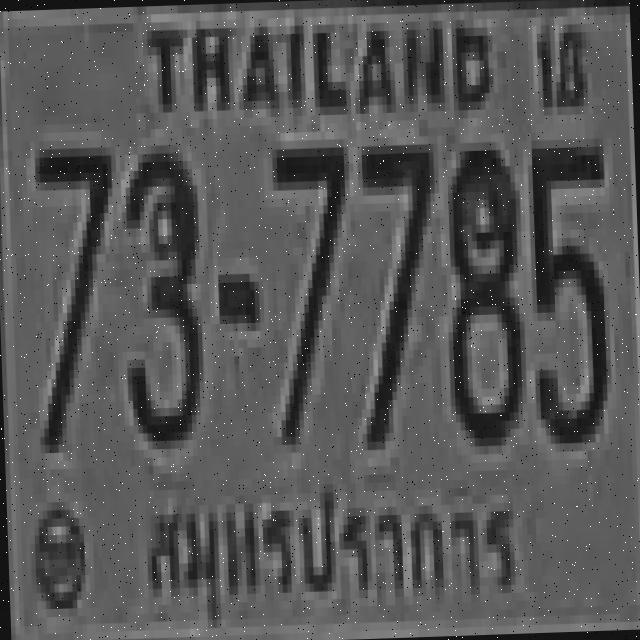3: (115, 144, 201, 442)
5: (524, 138, 611, 444)
7: (32, 138, 118, 444), (267, 138, 353, 436), (356, 136, 438, 442)
8: (442, 141, 524, 439)
SamutPrakan: (130, 454, 537, 640)
